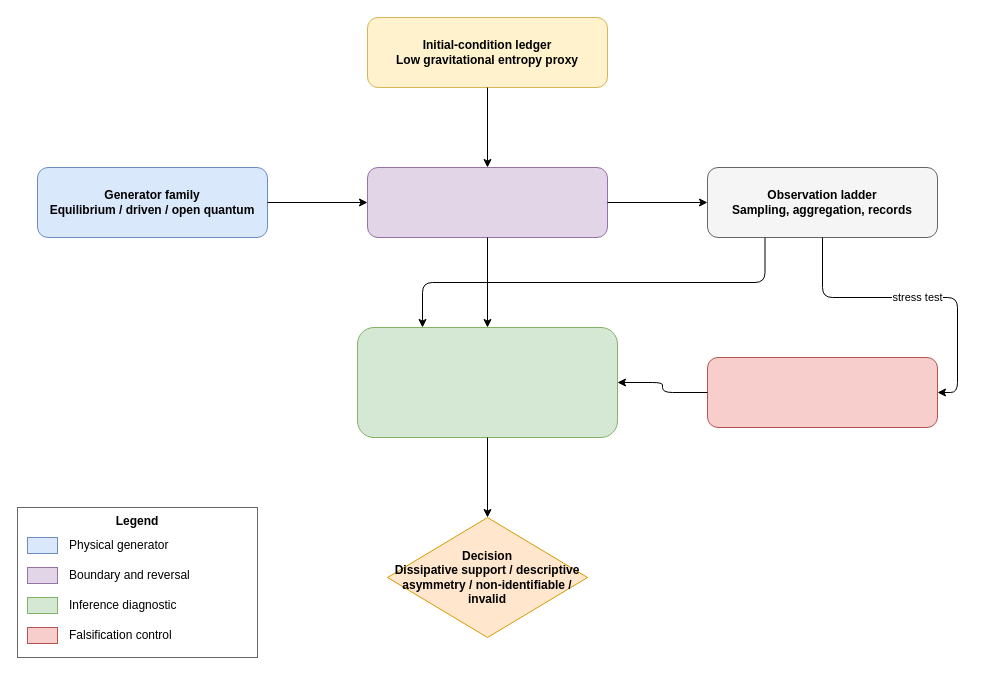
Some shapes in this 983 by 675 pixel diagram are drawn without their labels. The centre of each missing label's shape, as x and y in pixels:
Failure controls Hidden states, protocol offset, asymmetric noise: point 822,392
RAAT diagnostics Likelihood asymmetry Entropy ledger Fluctuation residual: point 487,382
System-environment boundary Bath, driving, reversal convention: point 487,202
